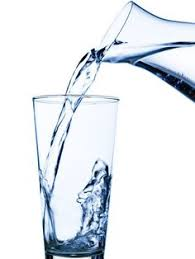air: (25, 34, 112, 165), (37, 156, 112, 259), (89, 33, 195, 103)
